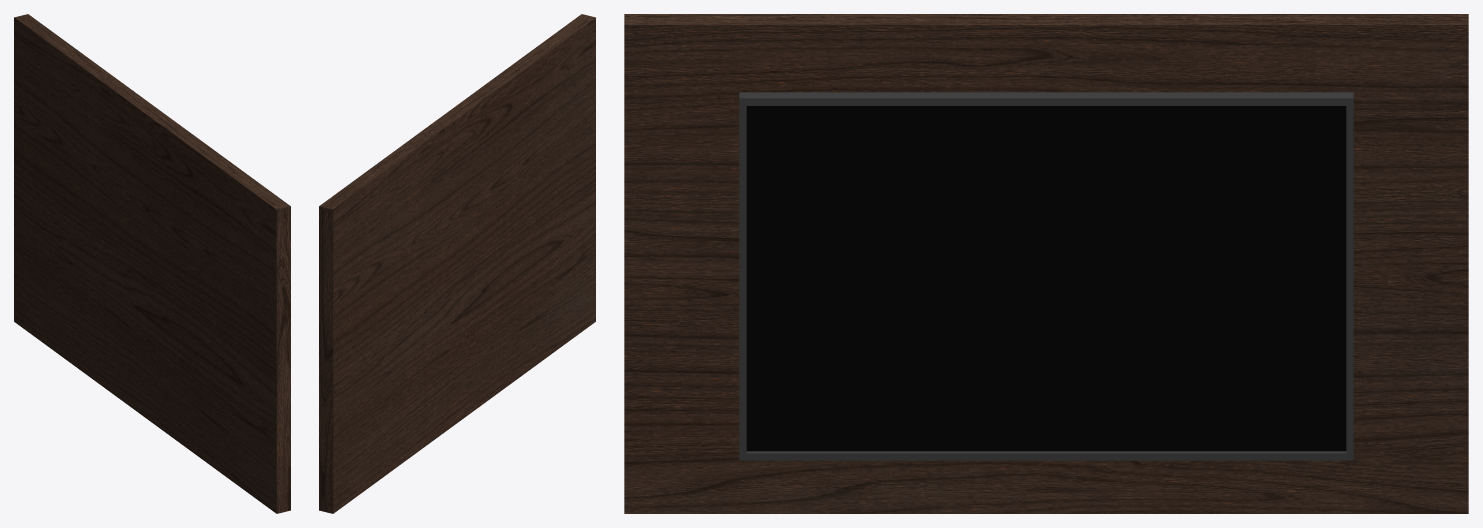
3 views of the same model, side by side, from view 1: azimuth 30°, elevation 25°; view 2: azimuth 150°, elevation 25°; view 3: azimuth 270°, elevation 25° (orthographic). The views are drawn at different scales.
Parts seen in each view (by area): view 1: 立方体.076; view 2: 立方体.076; view 3: 立方体.028, 立方体.076.
Boxes of the visible parts, x1=… form: 立方体.076: x1=14, y1=14, x2=290, y2=513; 立方体.076: x1=319, y1=14, x2=595, y2=513; 立方体.028: x1=739, y1=92, x2=1353, y2=460; 立方体.076: x1=624, y1=14, x2=1468, y2=513.
Size of the model in its own units: 15.4 by 166 by 260.
